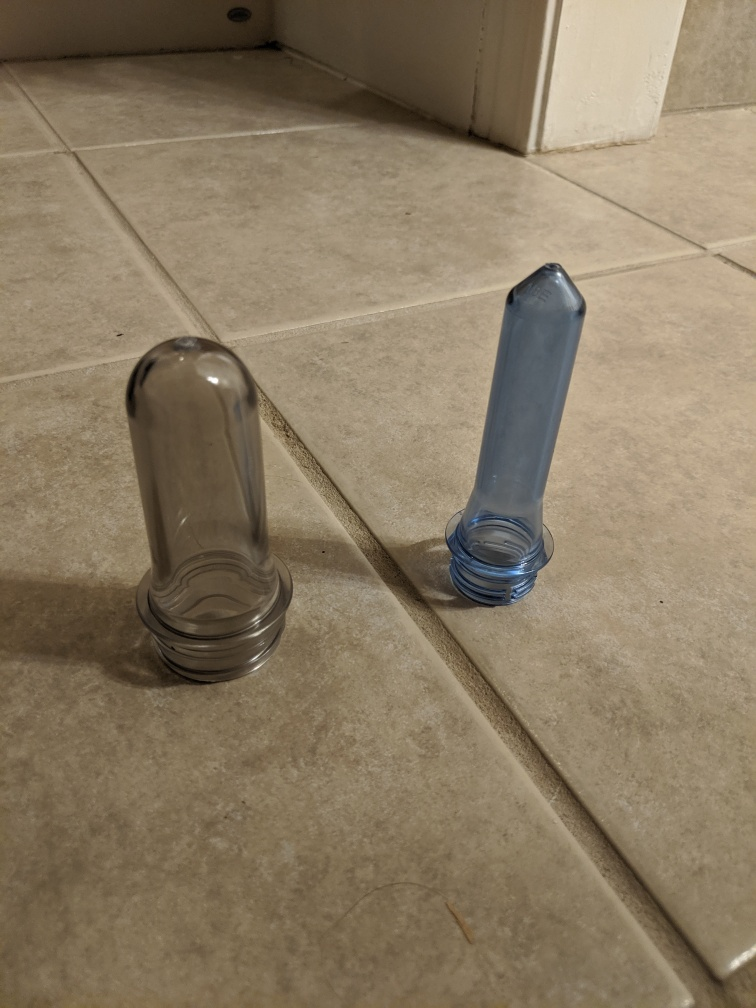preform: (115, 321, 303, 693), (438, 254, 597, 616)
